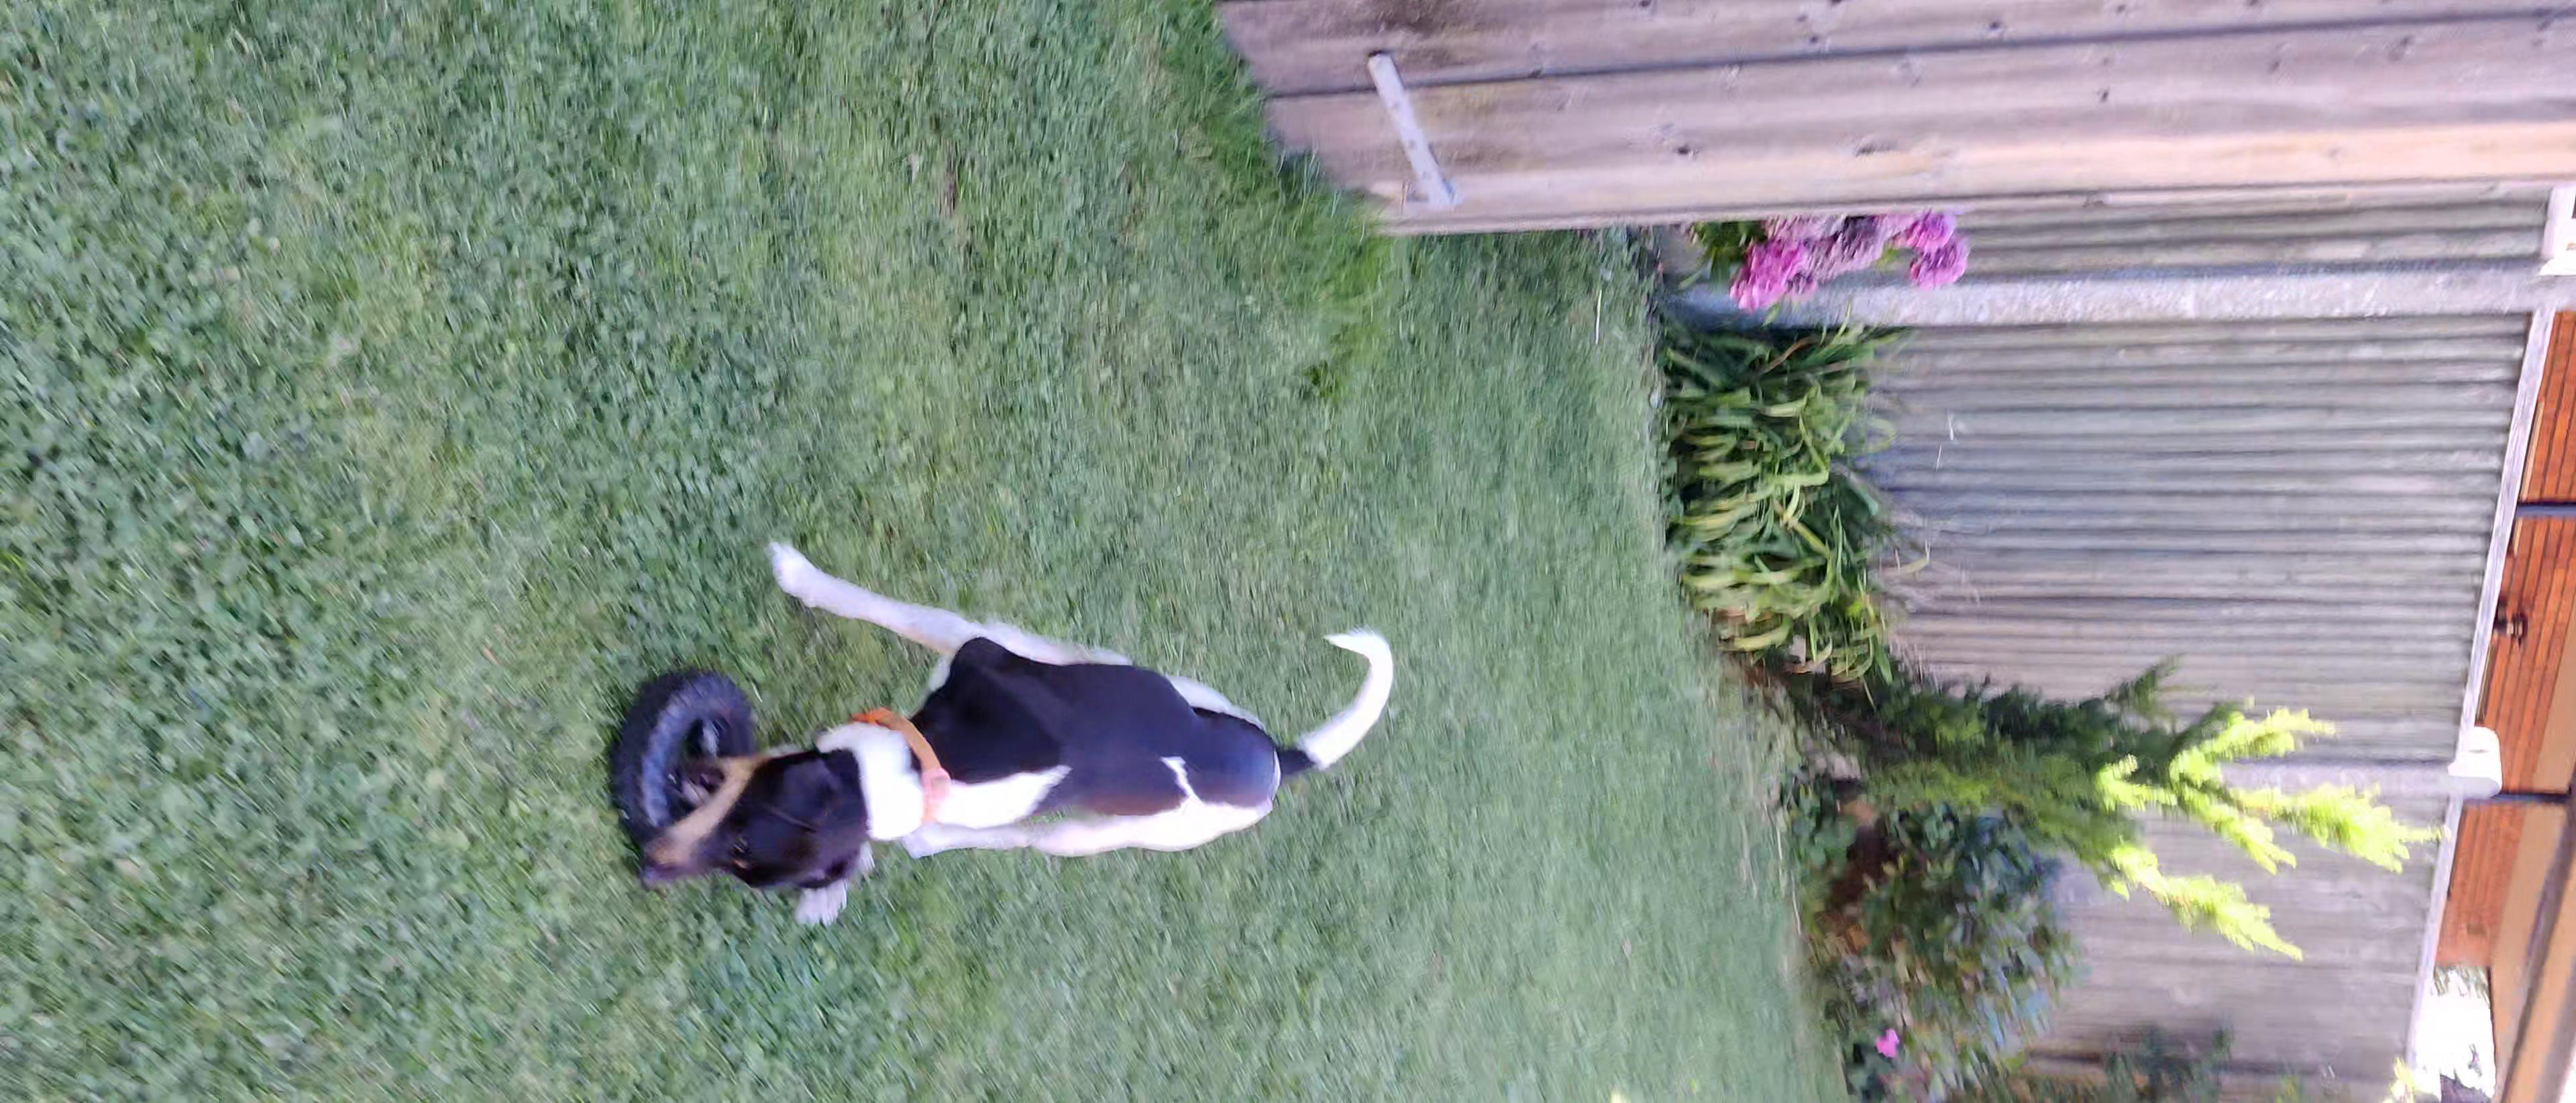Dog: (608, 538, 1410, 896)
